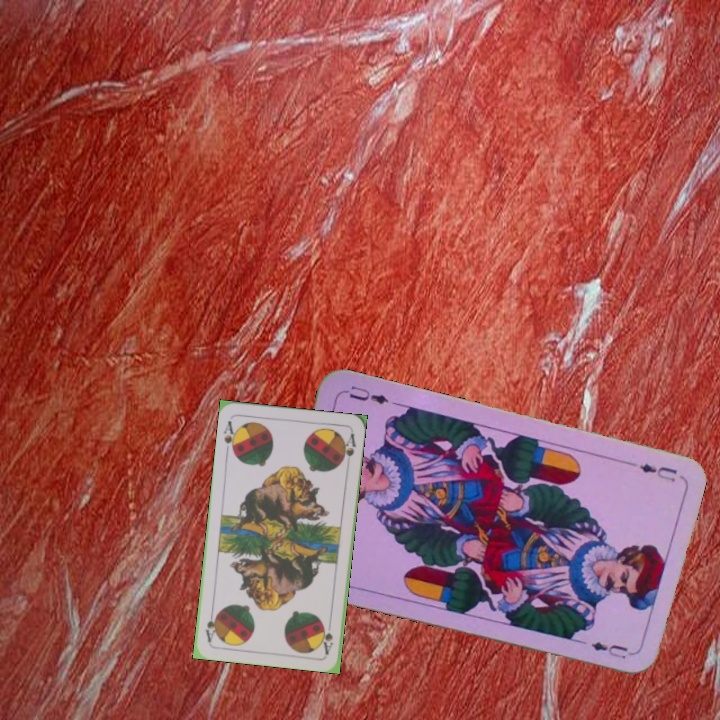EU: (635, 459, 680, 485)
SA: (219, 417, 240, 457), (319, 621, 336, 656)
